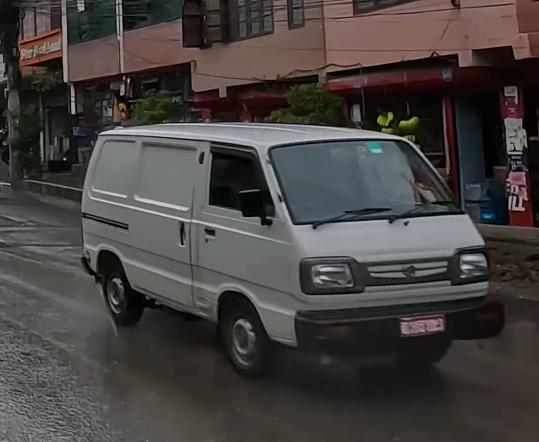van: (79, 120, 513, 383)
